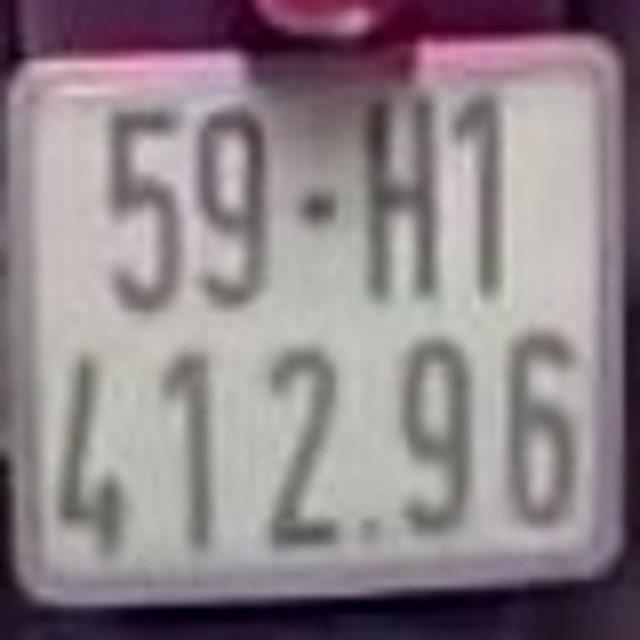1: (158, 344, 216, 550), (448, 88, 503, 298)
2: (261, 336, 339, 543)
4: (44, 350, 124, 548)
5: (114, 107, 186, 312)
6: (512, 332, 580, 530)
9: (197, 102, 269, 300), (402, 337, 474, 528)
H: (364, 92, 436, 298)
